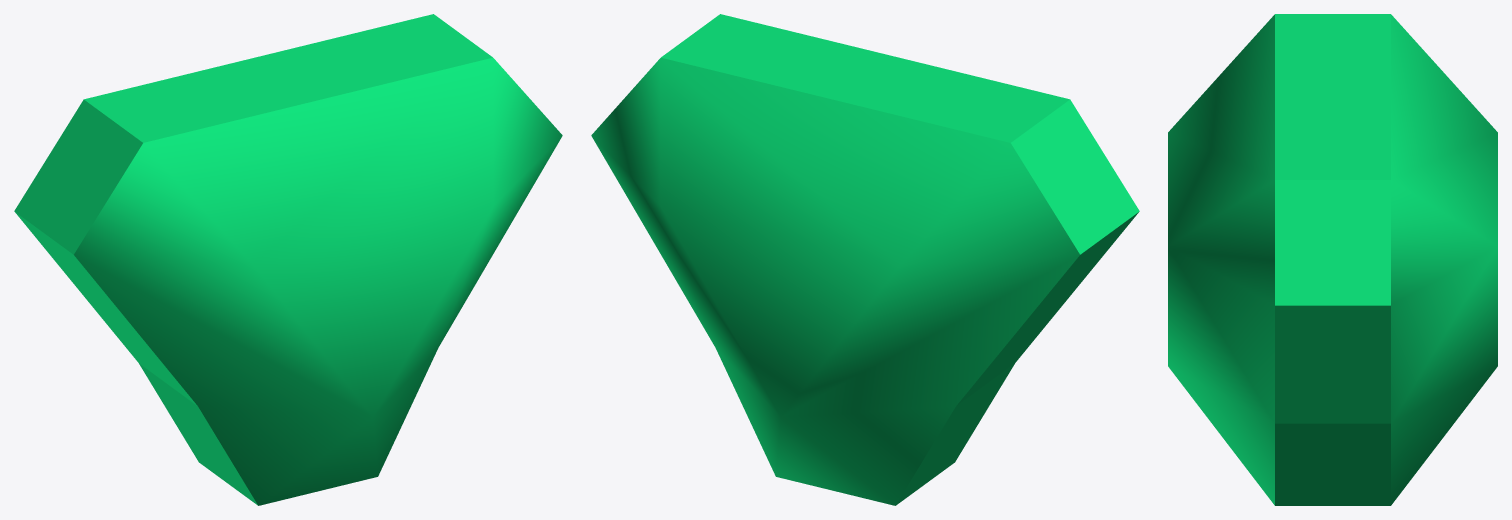
Rendered from Emerald Jewel.fbx.
The picture shows the model from 3 angles, left to right: view 1: azimuth 30°, elevation 25°; view 2: azimuth 150°, elevation 25°; view 3: azimuth 270°, elevation 25°; orthographic projection. The views are drawn at different scales.
Parts seen in each view (by area): view 1: pCube5; view 2: pCube5; view 3: pCube5.
Part boxes in pixels (x1,y1,x2,y2): pCube5: (14, 14, 562, 505); pCube5: (591, 14, 1139, 505); pCube5: (1168, 14, 1497, 505).
Bounding box in the file's own units: 10.89 × 8.32 × 6.53.
